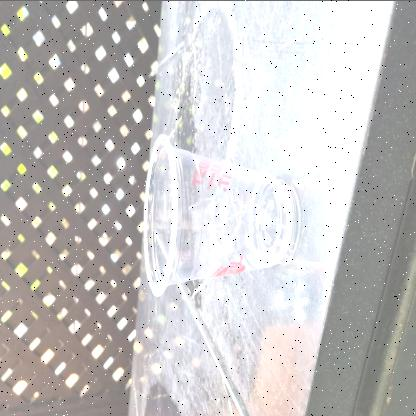Others: (144, 133, 300, 297)
